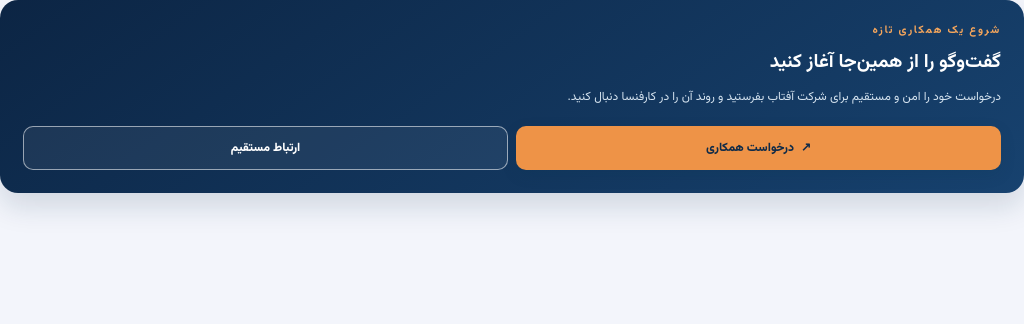
Test: collaboration request › shows only returned public contact channels and an empty state
Step 1. Click the button "ارتباط مستقیم" → (266, 148), box [23, 126, 508, 170]
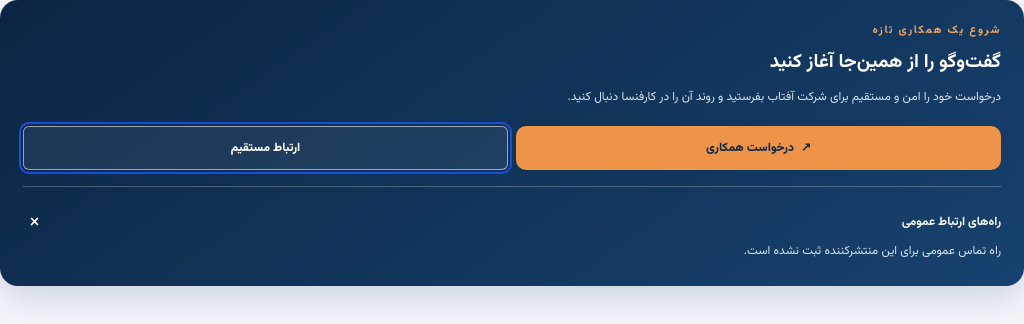
Check: the text "راه تماس عمومی برای این منتشرکننده ثبت نشده است." is shown, box [744, 242, 1001, 260]
